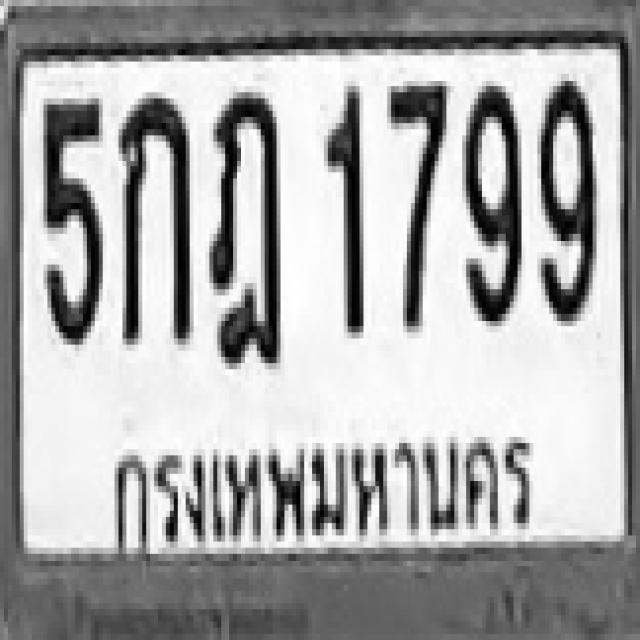1: (322, 80, 361, 332)
10GorGai: (114, 92, 190, 338)
23DorChaDa: (206, 86, 276, 363)
5: (39, 92, 99, 338)
7: (383, 80, 443, 326)
9: (537, 74, 593, 320), (462, 80, 518, 320)
Bangkok: (94, 401, 555, 567)
